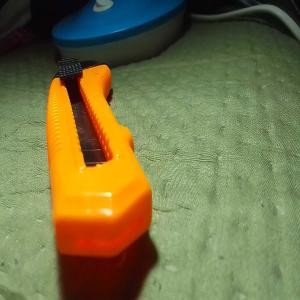estilete: (46, 59, 152, 257)
